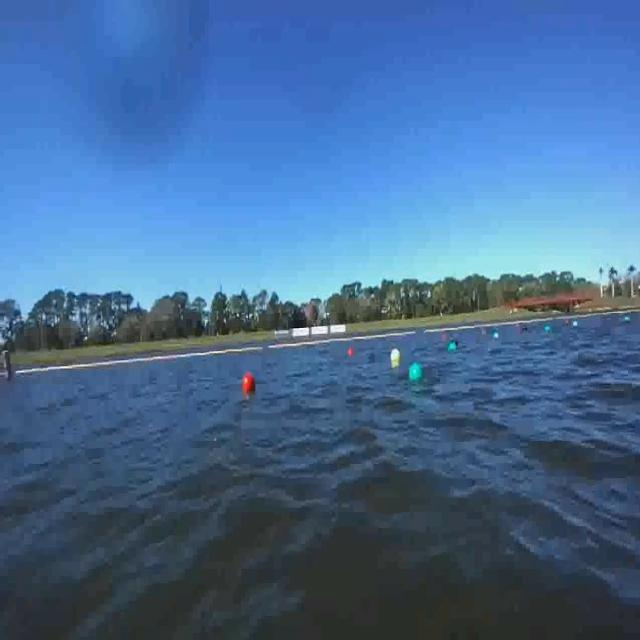green-buoy: (410, 361, 425, 380), (449, 342, 458, 354)
red-buoy: (242, 373, 253, 392)
yellow-buoy: (390, 349, 401, 363)
